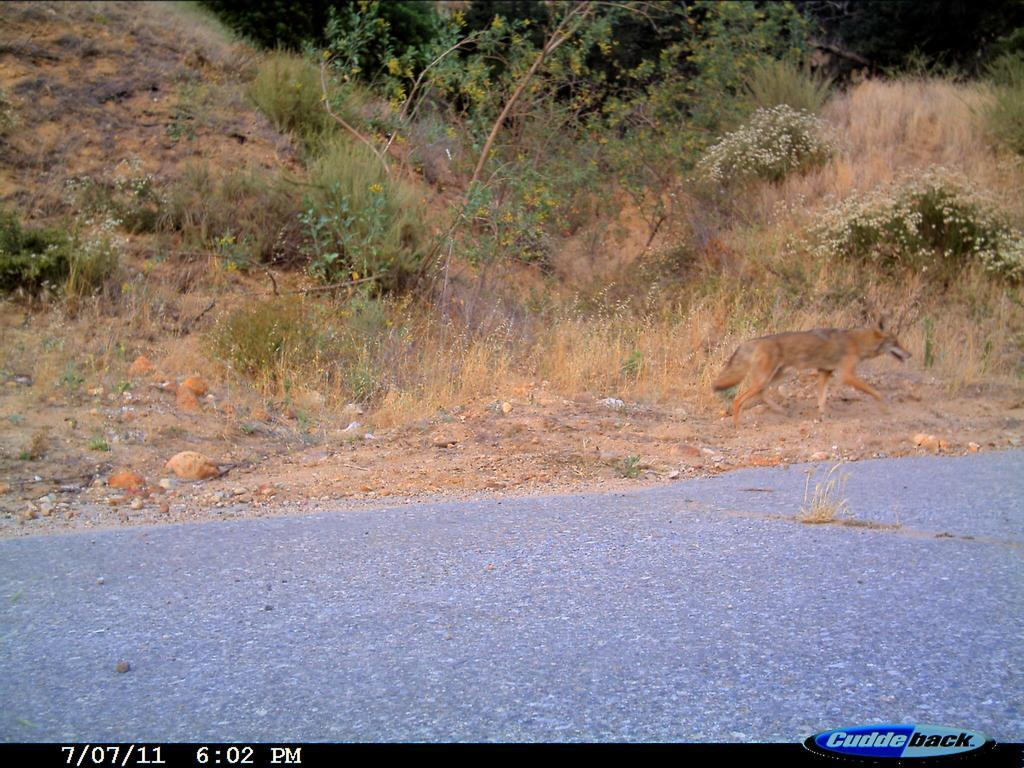coyote: (702, 309, 920, 425)
